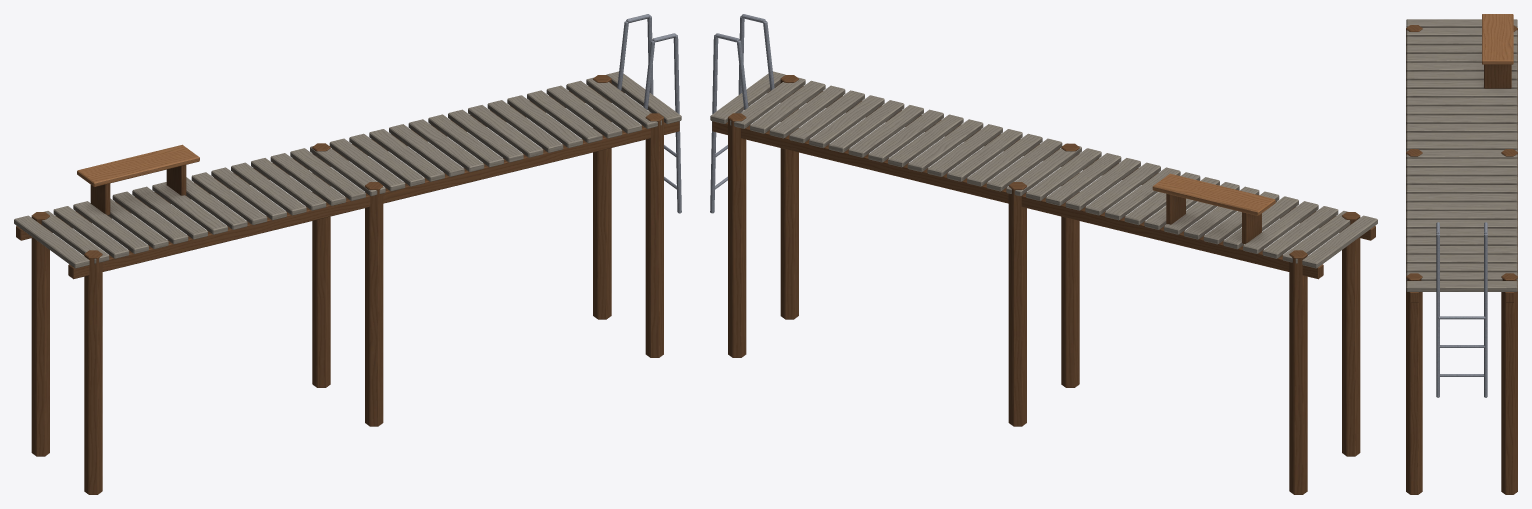
The model's file is badbrygga_tex.glb.
The picture shows the model from 3 angles, left to right: view 1: azimuth 30°, elevation 25°; view 2: azimuth 150°, elevation 25°; view 3: azimuth 270°, elevation 25°; orthographic projection. The views are drawn at different scales.
Parts seen in each view (by area): view 1: badbrygga; view 2: badbrygga; view 3: badbrygga.
Boxes of the visible parts, left/top/right/bottom form: badbrygga: left=14, top=14, right=681, bottom=494; badbrygga: left=710, top=14, right=1377, bottom=494; badbrygga: left=1406, top=14, right=1517, bottom=494.
Bounding box in the file's own units: 8.23 × 3.83 × 1.41.
Materials: 4 (4 with a texture image).
